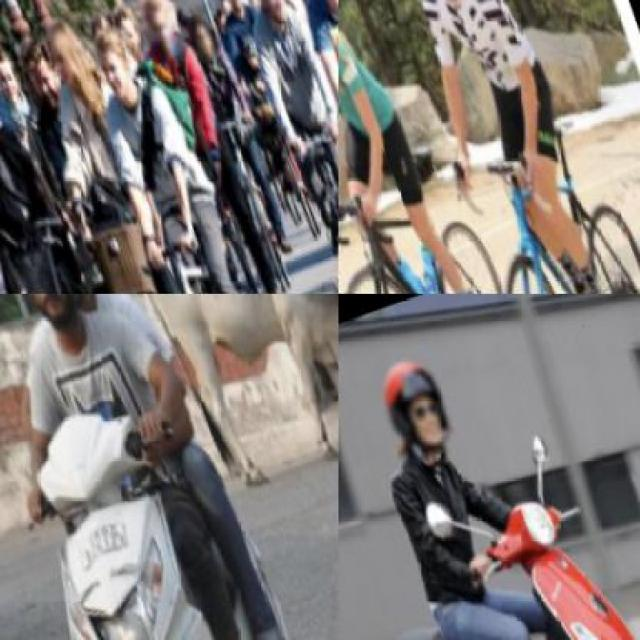With Helmet: (362, 338, 470, 468), (235, 0, 297, 23)
Without Helmet: (36, 5, 110, 106), (80, 11, 146, 103), (129, 0, 189, 62), (0, 293, 95, 329), (182, 4, 226, 61), (0, 75, 14, 163), (212, 0, 257, 20)
